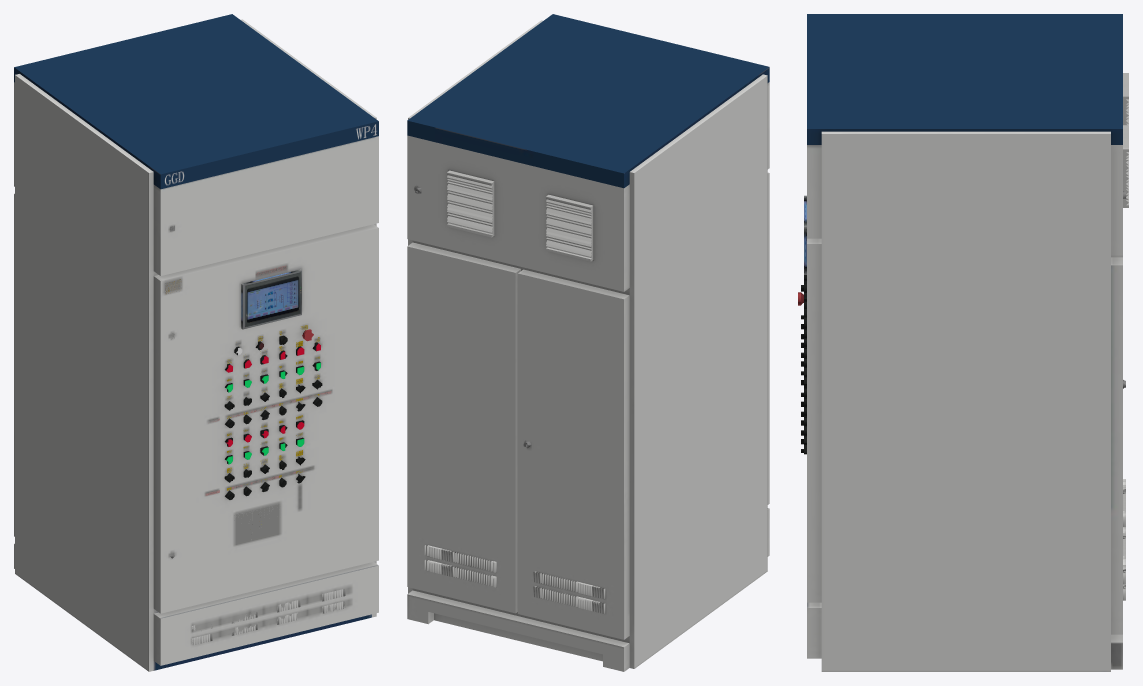
File: LX_gongyibingshui1.glb
3 views of the same model, side by side, from view 1: azimuth 30°, elevation 25°; view 2: azimuth 150°, elevation 25°; view 3: azimuth 270°, elevation 25° (orthographic). The views are drawn at different scales.
Size of the model in its own units: 0.0096 by 0.0202 by 0.0112.
1 material, 1 textured.
